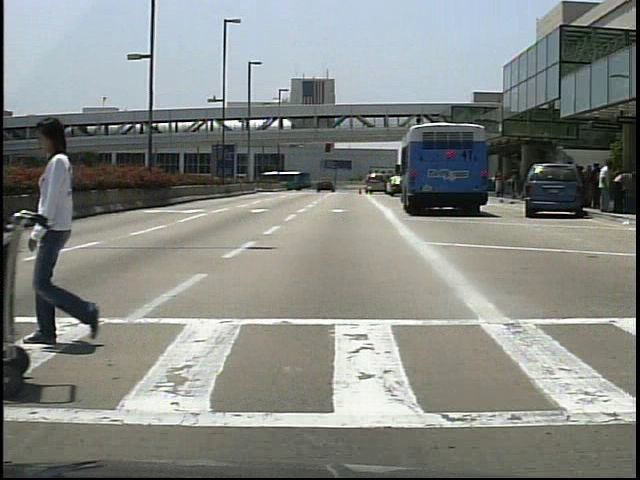person: (28, 114, 117, 354), (598, 159, 618, 212), (587, 161, 605, 215)
